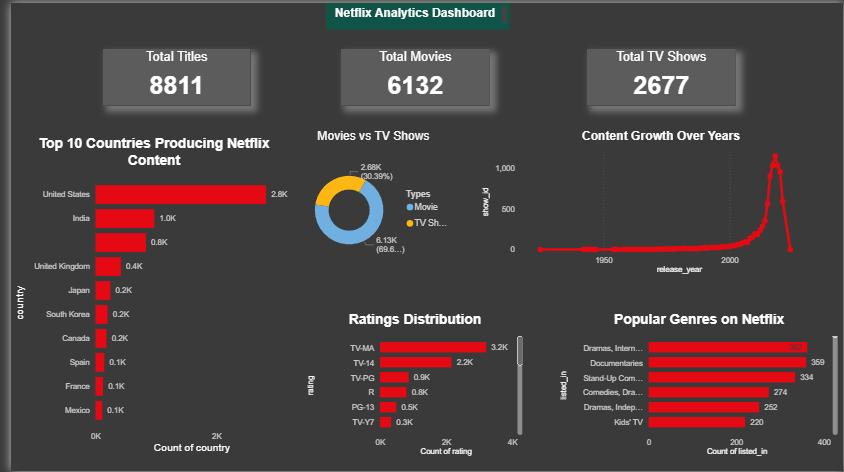

The dashboard page shown, as its layout file describes it:
{"tool":"powerbi","page":{"name":"Page 1","canvas":[1280,720],"ordinal":0},"visuals":[{"type":"textbox","box":[484.3,0,282.9,41.4],"z":0},{"type":"card","title":"Total Titles","fields":{"Values":["CountNonNull(Netflix_Data.show_id)"]},"box":[141.4,70,227.1,87.1],"z":1000},{"type":"card","title":"Total Movies","fields":{"Values":["CountNonNull(Netflix_Data.show_id)"]},"box":[507.1,70,228.6,87.1],"z":2000},{"type":"card","title":"Total TV Shows","fields":{"Values":["CountNonNull(Netflix_Data.show_id)"]},"box":[885.7,70,228.6,87.1],"z":3000},{"type":"donutChart","title":"Movies vs TV Shows","fields":{"Category":["Netflix_Data.type"],"Y":["CountNonNull(Netflix_Data.type)"]},"box":[427.1,194.3,260,228.6],"z":4000},{"type":"lineChart","title":"Content Growth Over Years","fields":{"Category":["Netflix_Data.release_year"],"Y":["CountNonNull(Netflix_Data.show_id)"]},"box":[720,194.3,560,228.6],"z":5000},{"type":"clusteredBarChart","title":"Top 10 Countries Producing Netflix Content","fields":{"Category":["Netflix_Data.country"],"Y":["CountNonNull(Netflix_Data.country)"]},"box":[0,204.3,440,492.9],"z":6000},{"type":"clusteredBarChart","title":"Ratings Distribution","fields":{"Category":["Netflix_Data.rating"],"Y":["CountNonNull(Netflix_Data.rating)"]},"box":[450,475.7,341.4,227.1],"z":7000},{"type":"clusteredBarChart","title":"Popular Genres on Netflix","fields":{"Category":["Netflix_Data.listed_in"],"Y":["CountNonNull(Netflix_Data.listed_in)"]},"box":[840,475.7,437.1,227.1],"z":8000}]}

Visuals, with their boxes in screenshot pixels (x1, y1, x2, y2), scaled from the page's 1280x720 canvas onto the 844x472 screenshot:
textbox: locate(319, 0, 506, 27)
"Total Titles" card: locate(93, 46, 243, 103)
"Total Movies" card: locate(334, 46, 485, 103)
"Total TV Shows" card: locate(584, 46, 735, 103)
"Movies vs TV Shows" donutChart: locate(282, 127, 453, 277)
"Content Growth Over Years" lineChart: locate(475, 127, 843, 277)
"Top 10 Countries Producing Netflix Content" clusteredBarChart: locate(0, 134, 290, 457)
"Ratings Distribution" clusteredBarChart: locate(297, 312, 522, 461)
"Popular Genres on Netflix" clusteredBarChart: locate(554, 312, 842, 461)
